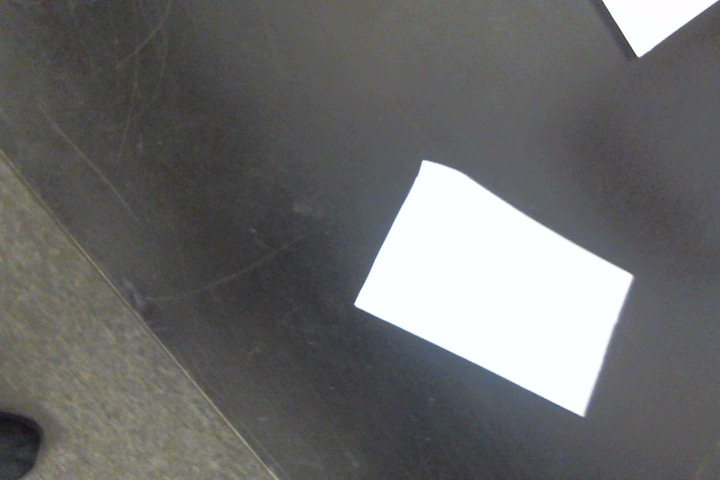Tape: (351, 158, 636, 418)
